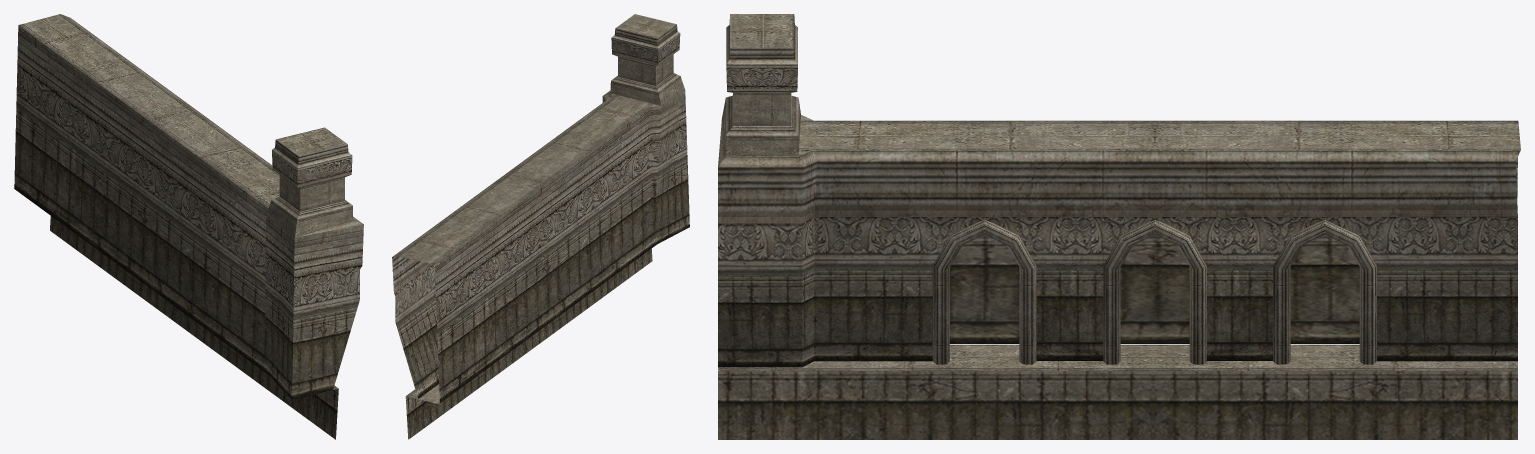
Rendered from SM_Plains_Castle_Bridge_Wall_01.FBX.
The picture shows the model from 3 angles, left to right: view 1: azimuth 30°, elevation 25°; view 2: azimuth 150°, elevation 25°; view 3: azimuth 270°, elevation 25°; orthographic projection. The views are drawn at different scales.
Parts seen in each view (by area): view 1: SM_Plains_Castle_Bridge_Wall_01; view 2: SM_Plains_Castle_Bridge_Wall_01; view 3: SM_Plains_Castle_Bridge_Wall_01.
Boxes of the visible parts, x1,y1,x2,y2 form: SM_Plains_Castle_Bridge_Wall_01: (14, 14, 363, 439); SM_Plains_Castle_Bridge_Wall_01: (392, 14, 689, 439); SM_Plains_Castle_Bridge_Wall_01: (718, 14, 1520, 439).
Bounding box in the file's own units: 31.38 × 121 × 217.
